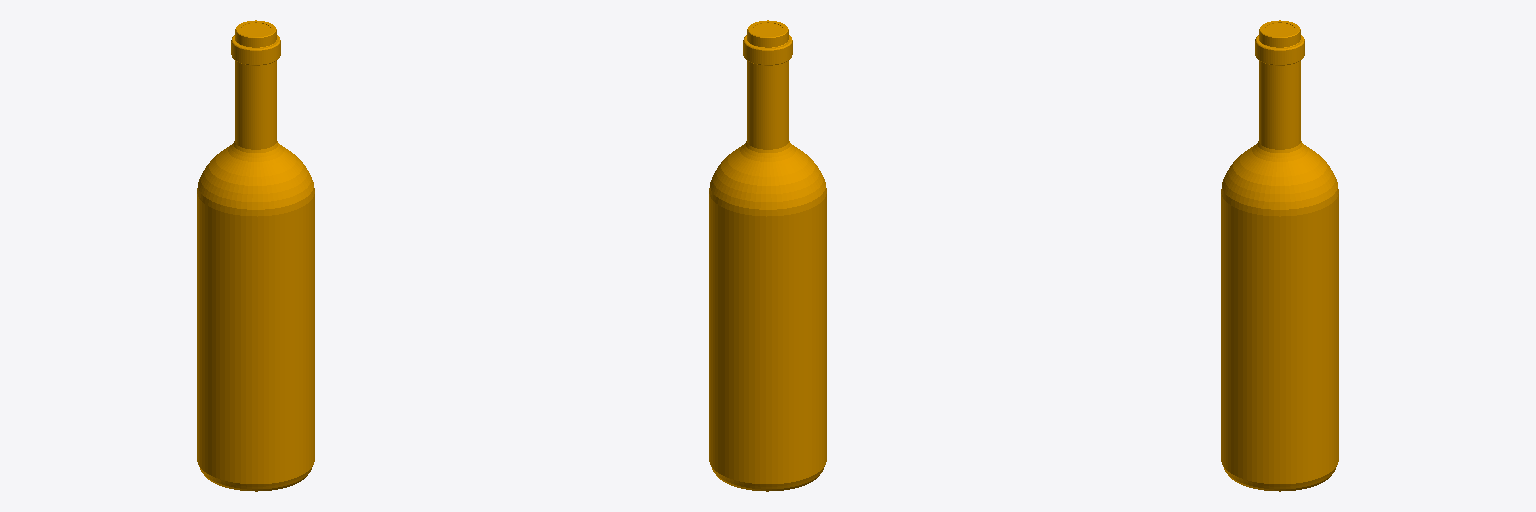
URDF robot description (bottle):
<?xml version="1.0"?>
<robot name="bottle">
  <link name="bottle_link">
    <visual>
      <origin xyz="0 0 0" rpy="1.5708 0 0"/>
      <geometry>
        <mesh filename="bottle.obj" scale="0.03 0.03 0.03"/>
      </geometry>
    </visual>

    <collision>
      <origin xyz="0 0 0" rpy="1.5708 0 0"/>
      <geometry>
        <mesh filename="bottle.obj" scale="0.03 0.03 0.03"/>
      </geometry>
    </collision>
    
    <inertial>
      <origin xyz="0 0 0" rpy="0 0 0"/>
      <mass value="1.5"/>
      <inertia ixx="0.001" ixy="0" ixz="0" iyy="0.001" iyz="0" izz="0.001"/>
    </inertial>
  </link>
</robot>

--- Render facts (derived) ---
The picture shows the robot from 3 angles, left to right: view 1: azimuth 30°, elevation 25°; view 2: azimuth 150°, elevation 25°; view 3: azimuth 270°, elevation 25°; orthographic projection.
Robot: bottle — 1 links, 0 joints (none); root link bottle_link; default pose: every joint at zero.
Visible links, largest first — view 1: bottle_link; view 2: bottle_link; view 3: bottle_link.
Boxes of the visible links, x1,y1,x2,y2 form: bottle_link: [197, 20, 314, 491]; bottle_link: [709, 20, 826, 491]; bottle_link: [1221, 20, 1338, 491].
Bounding box of the posed robot: 0.06 × 0.06 × 0.2477 m (x, y, z).
1 mesh visuals loaded from 1 distinct referenced files (1 OBJ).
